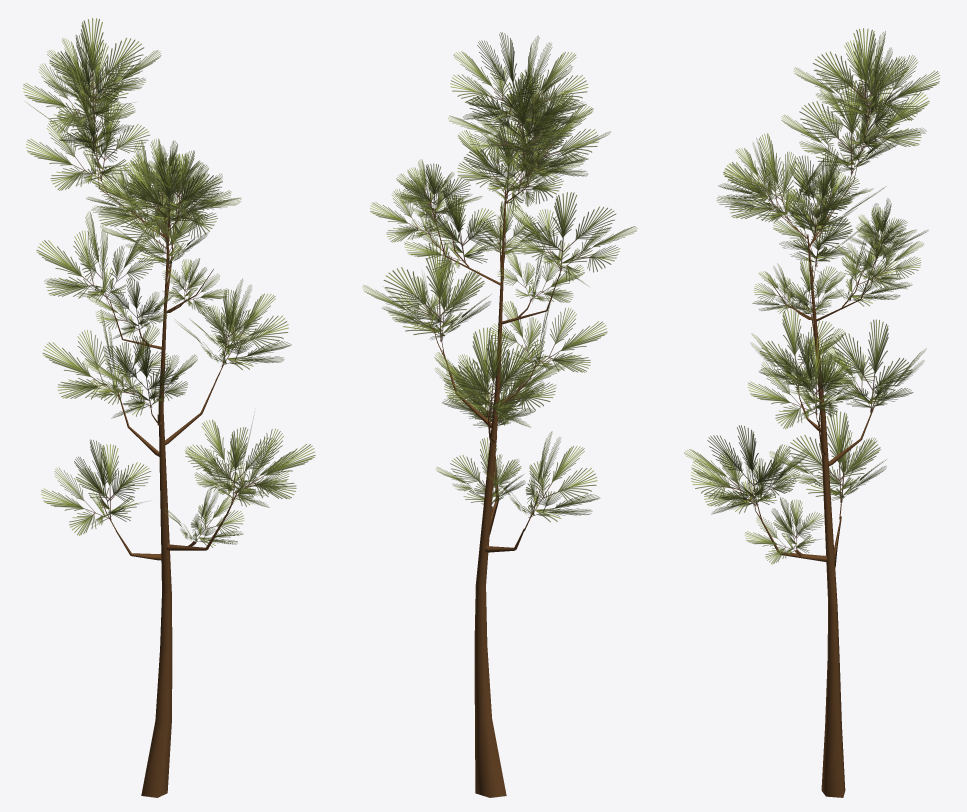
Rendered from Young_Pine_Tree_3.glb.
3 renders of one model, left to right at view 1: azimuth 30°, elevation 25°; view 2: azimuth 150°, elevation 25°; view 3: azimuth 270°, elevation 25°, orthographic. The views are drawn at different scales.
Visible parts, largest first — view 1: Young_Pine_Tree_3; view 2: Young_Pine_Tree_3; view 3: Young_Pine_Tree_3.
Part boxes in pixels (x1=…): Young_Pine_Tree_3: x1=22, y1=18, x2=315, y2=797; Young_Pine_Tree_3: x1=363, y1=32, x2=637, y2=797; Young_Pine_Tree_3: x1=684, y1=28, x2=939, y2=797.
Size of the model in its own units: 0.8294 by 2.22 by 0.7681.
2 materials, 2 textured.
